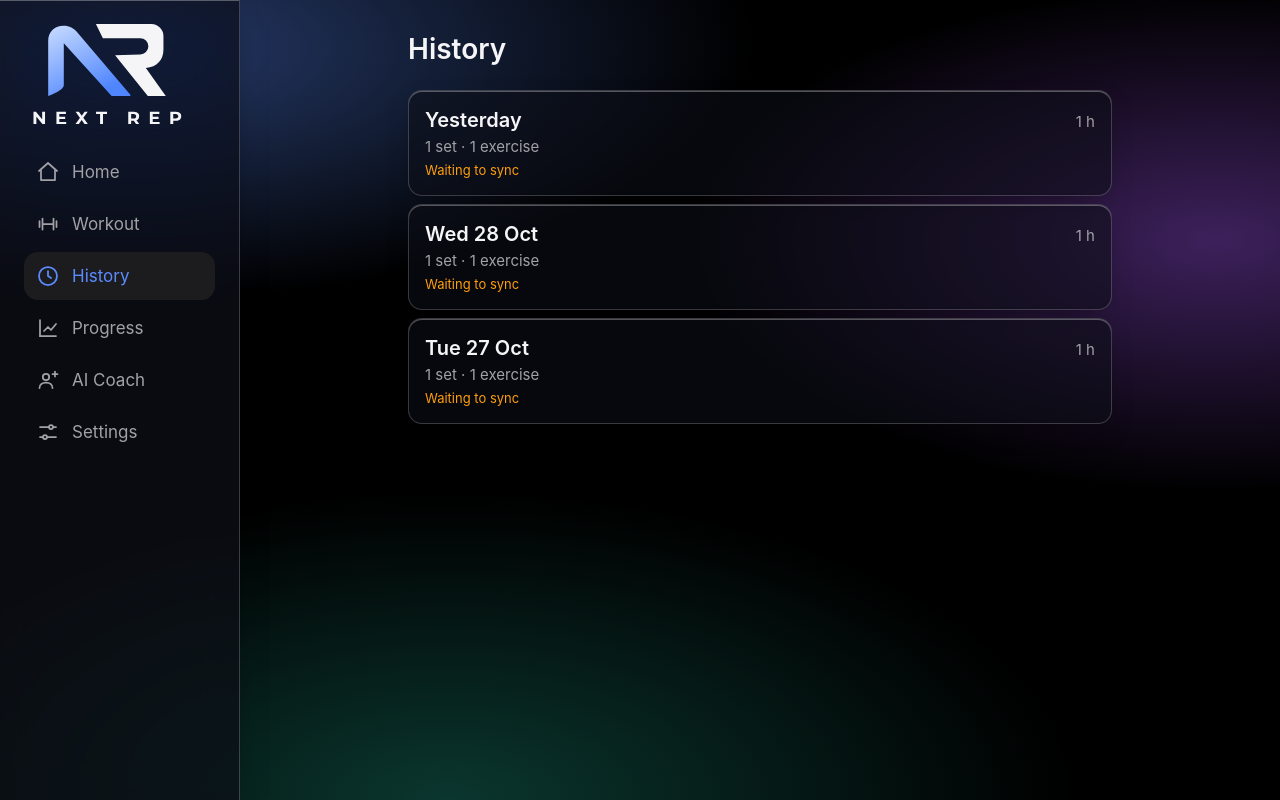
QA kg to lb to kg changes nothing in the records › in lb, a 60 Kg set logged twice is not a record, while a heavier one is (positive control)
Click the link "Yesterday 1 h 1 set · 1 exercise Waiting to sync": click(473, 120) [408, 90, 1112, 196]
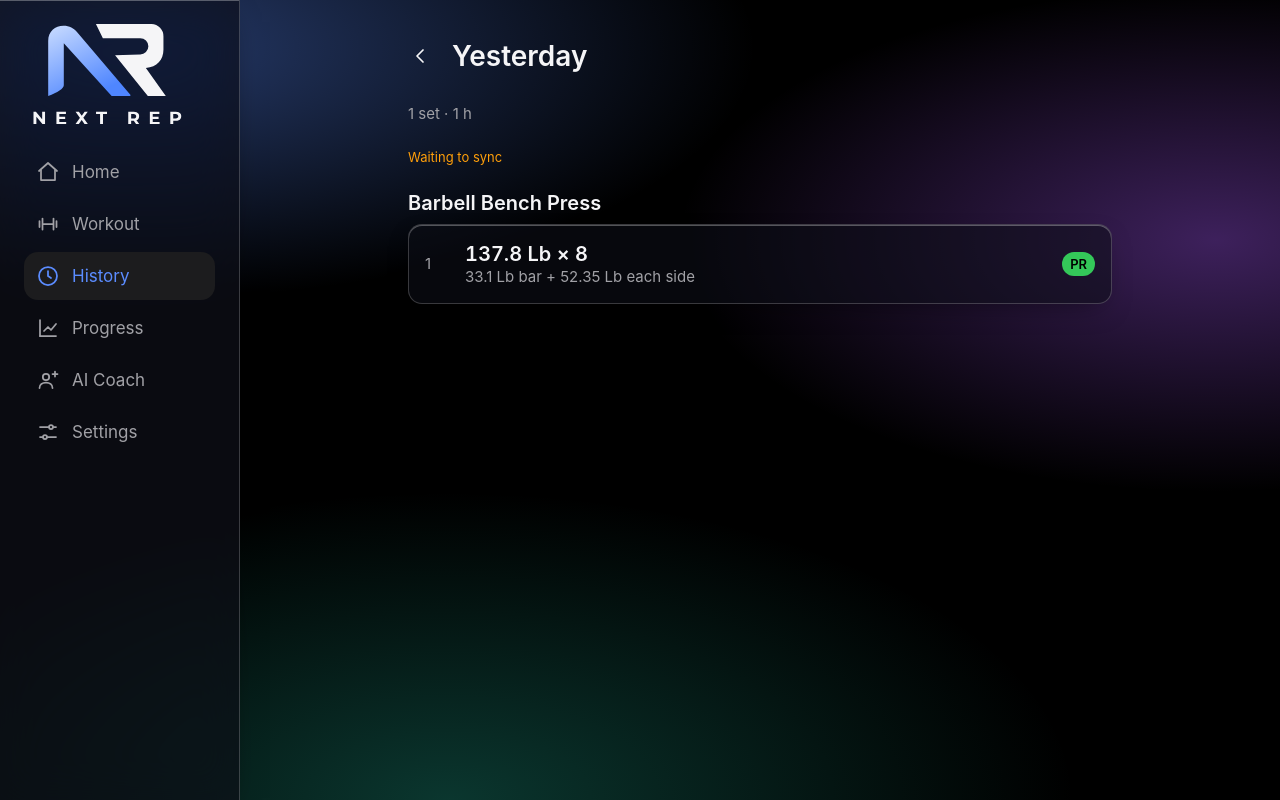
Click the link named "Back": click(420, 56) [408, 44, 432, 68]
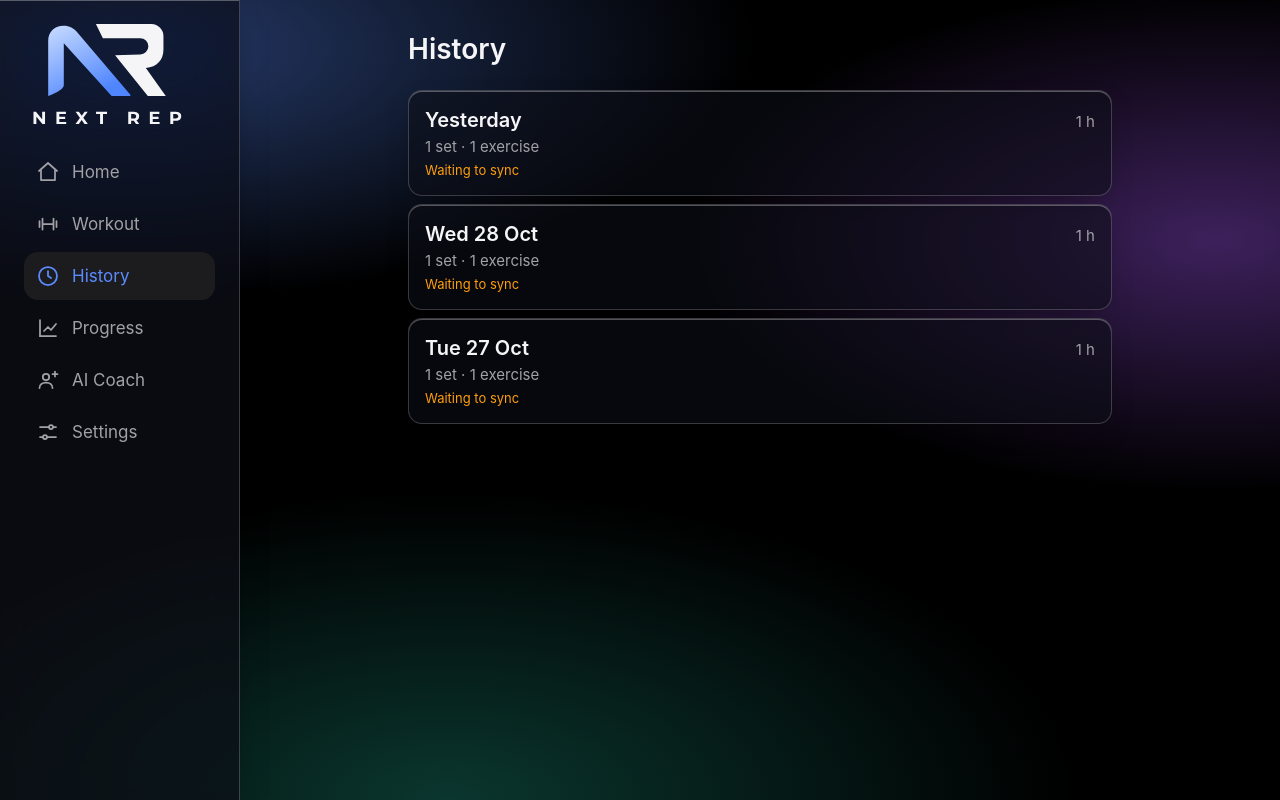
Click the link "Wed 28 Oct 1 h 1 set · 1 exercise Waiting to sync": click(482, 234) [408, 204, 1112, 310]
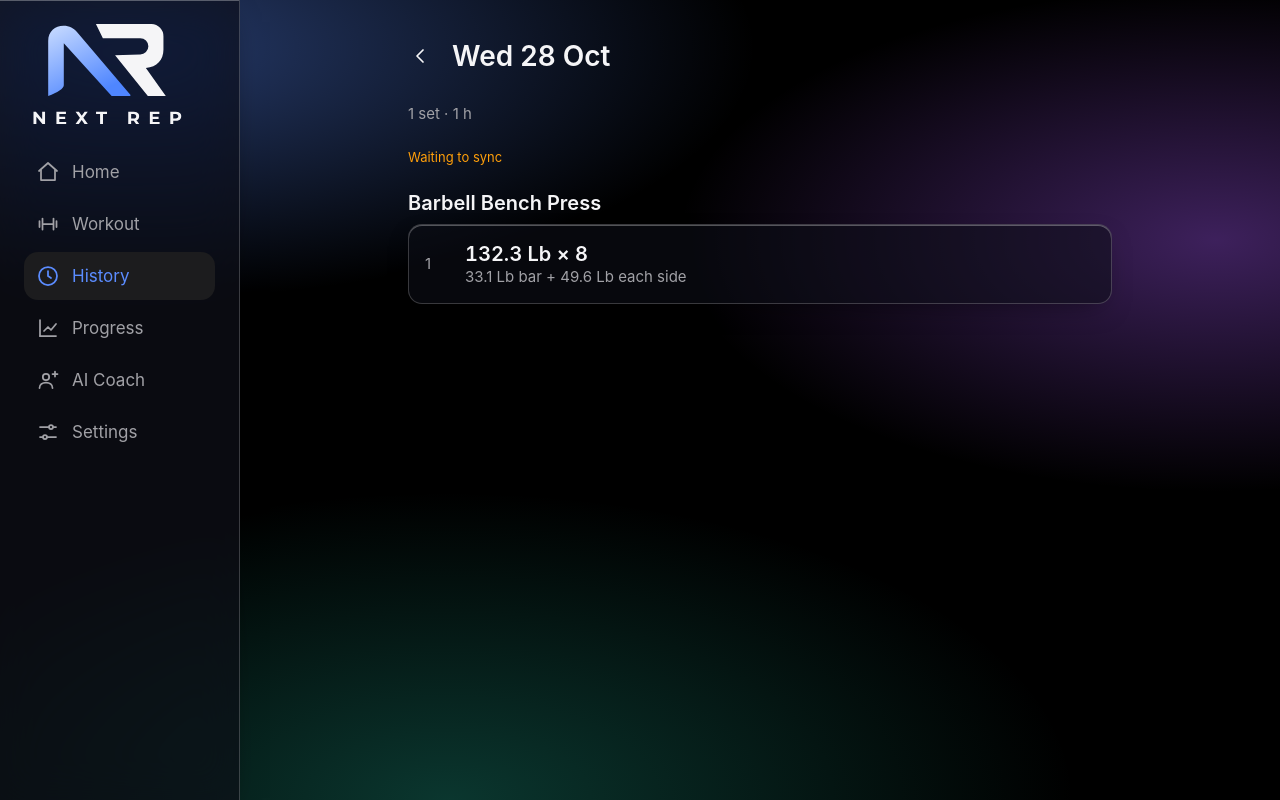
Now the element "Barbell Bench Press" shows "132.3 Lb × 8", box [465, 242, 588, 266]
